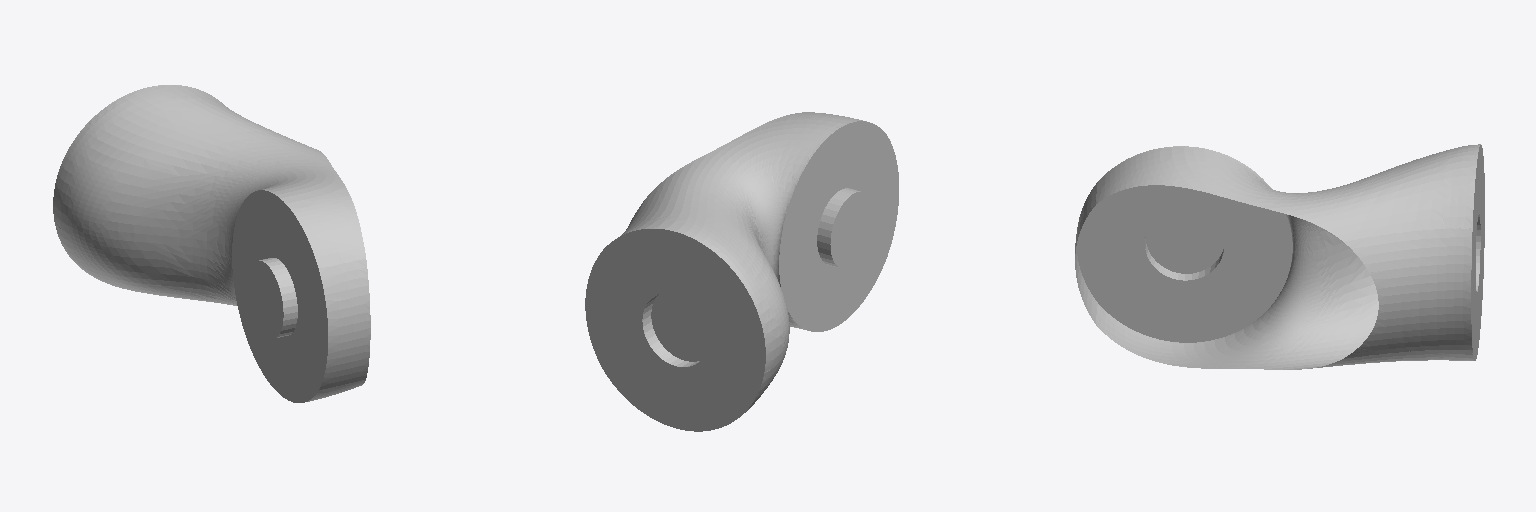
File: link_4_grey.obj
3 views of the same model, side by side, from view 1: azimuth 30°, elevation 25°; view 2: azimuth 150°, elevation 25°; view 3: azimuth 270°, elevation 25° (orthographic).
Visible parts, largest first — view 1: link_4_grey; view 2: link_4_grey; view 3: link_4_grey.
Boxes of the visible parts, x1=… form: link_4_grey: x1=53, y1=85, x2=370, y2=402; link_4_grey: x1=585, y1=112, x2=898, y2=431; link_4_grey: x1=1075, y1=144, x2=1484, y2=369.
Size of the model in its own units: 0.1462 by 0.136 by 0.2571.